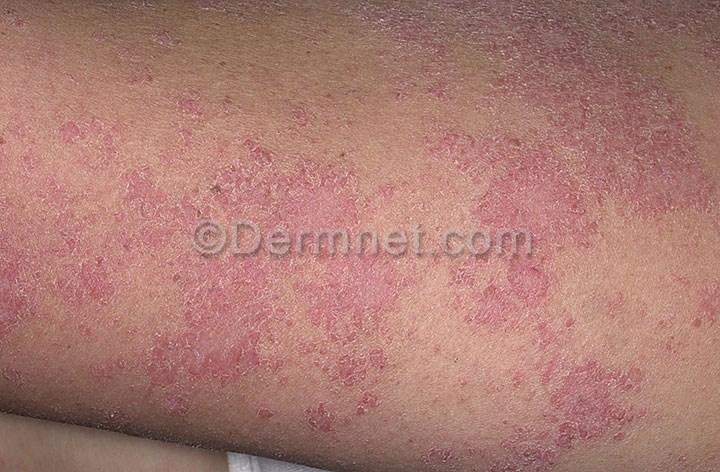Eczema: (431, 0, 710, 234), (53, 250, 322, 449), (81, 125, 273, 210)
